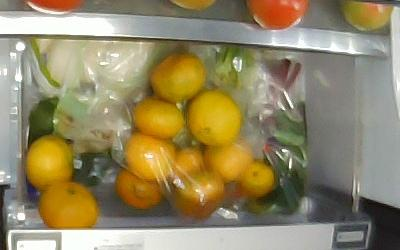tangerine: (186, 89, 241, 147), (151, 51, 207, 102), (38, 183, 98, 229), (24, 133, 70, 192), (115, 168, 165, 211), (132, 96, 182, 139), (204, 141, 250, 180), (240, 162, 275, 195)
tangerine_vinyl: (168, 172, 223, 217), (124, 133, 174, 179), (171, 148, 206, 184)
